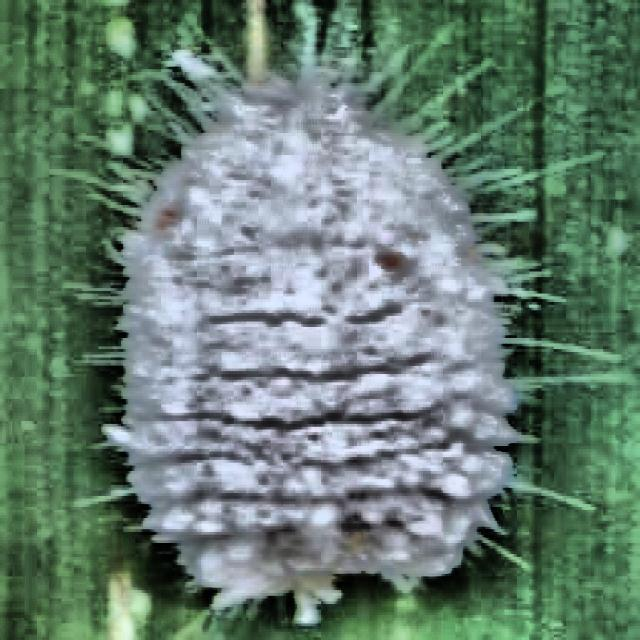Mealy-bug: (84, 11, 571, 638)
